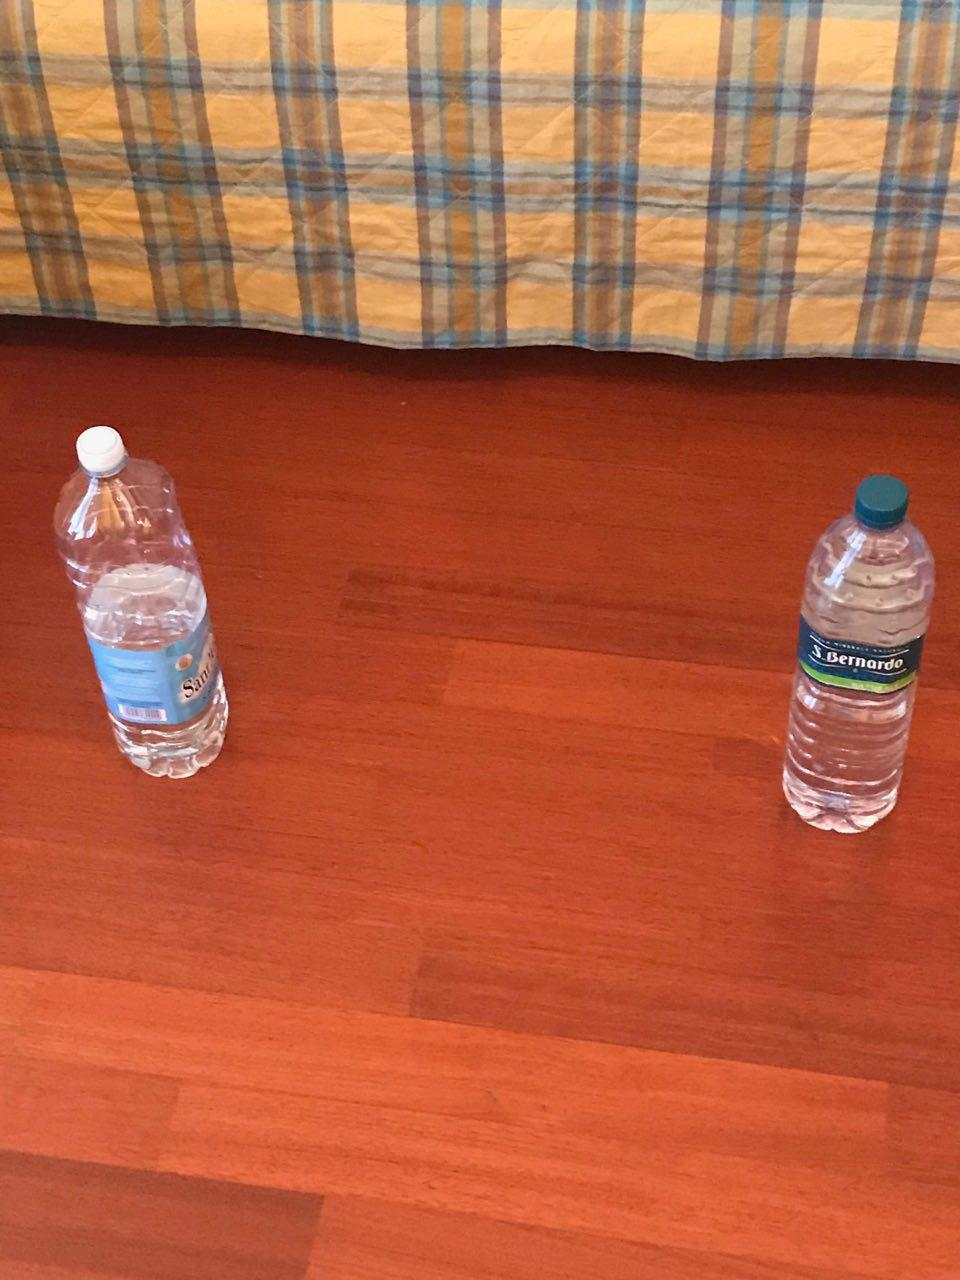san_bernardo: (782, 474, 937, 838)
